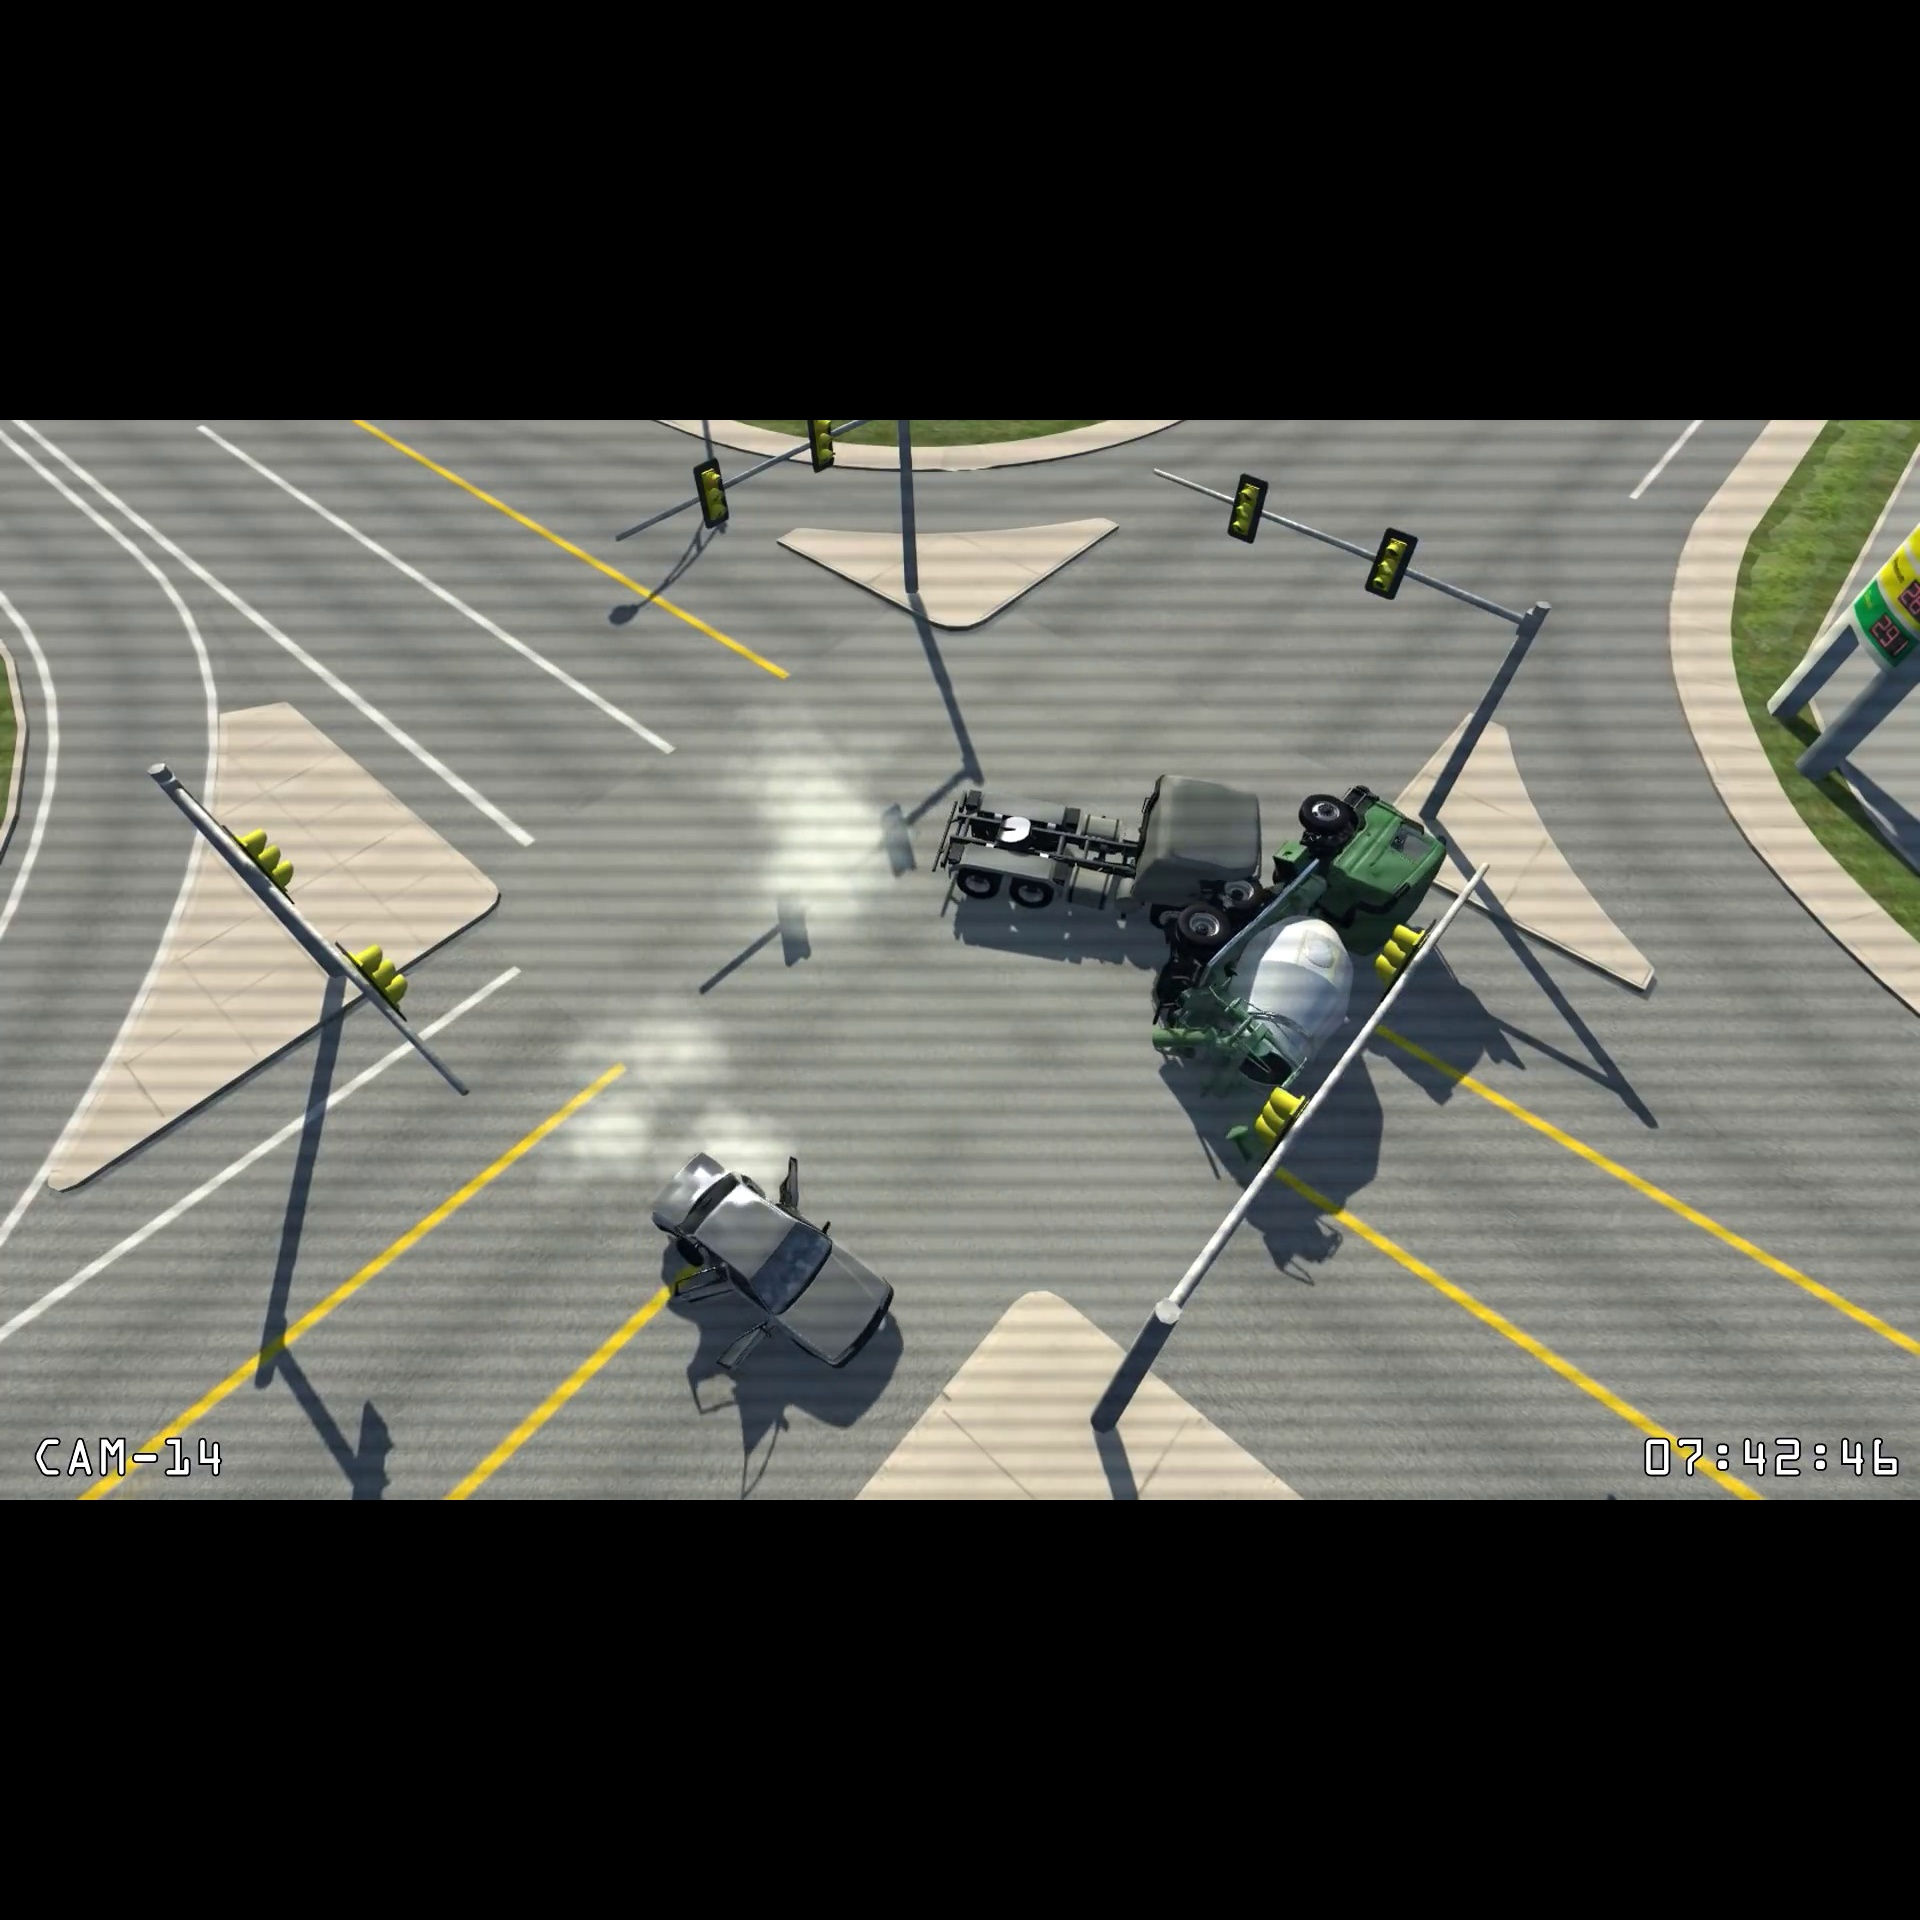vehicle: (1131, 777, 1454, 1108), (636, 1136, 911, 1384), (925, 767, 1269, 925)
